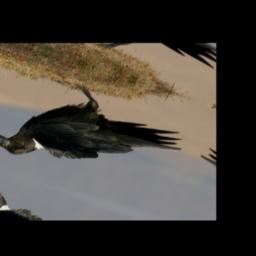Crow: (0, 65, 199, 202)
